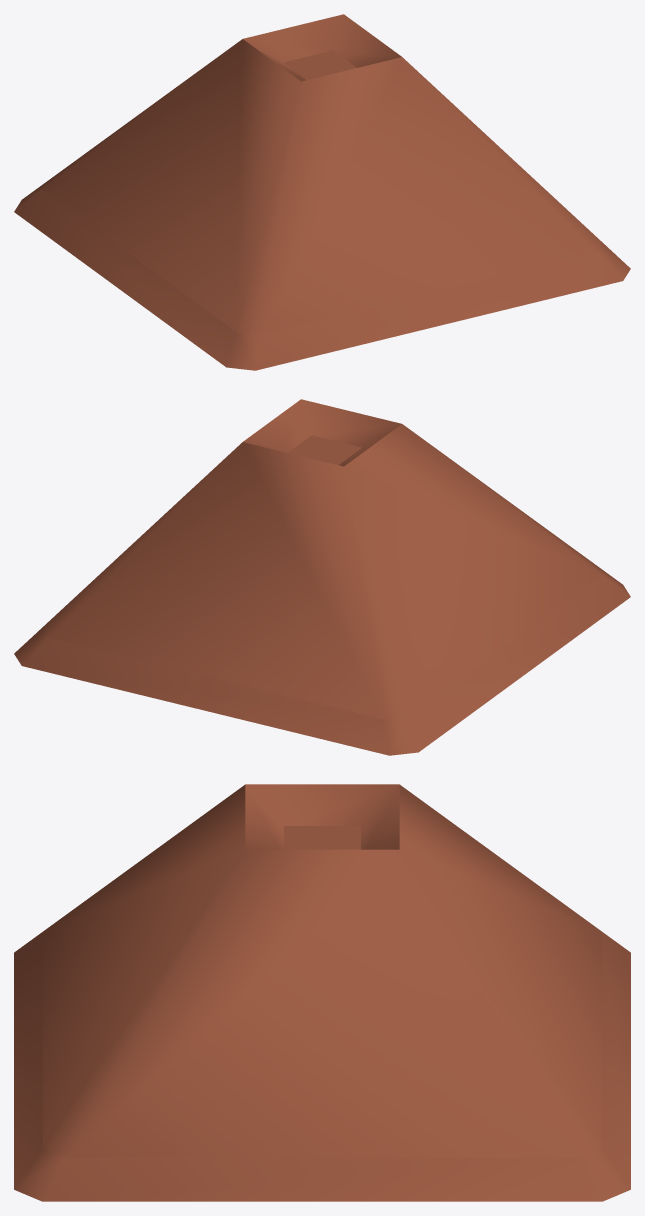
File: roof-point.glb
3 views of the same model, one above another, from view 1: azimuth 30°, elevation 25°; view 2: azimuth 150°, elevation 25°; view 3: azimuth 270°, elevation 25° (orthographic). The views are drawn at different scales.
Visible parts, largest first — view 1: roof-point; view 2: roof-point; view 3: roof-point.
Part boxes in pixels (box(x1,y1,x2,y2)): roof-point: box(14, 14, 630, 370); roof-point: box(14, 399, 630, 755); roof-point: box(14, 784, 630, 1201).
Bounding box in the file's own units: 1.1 × 0.5 × 1.1.
